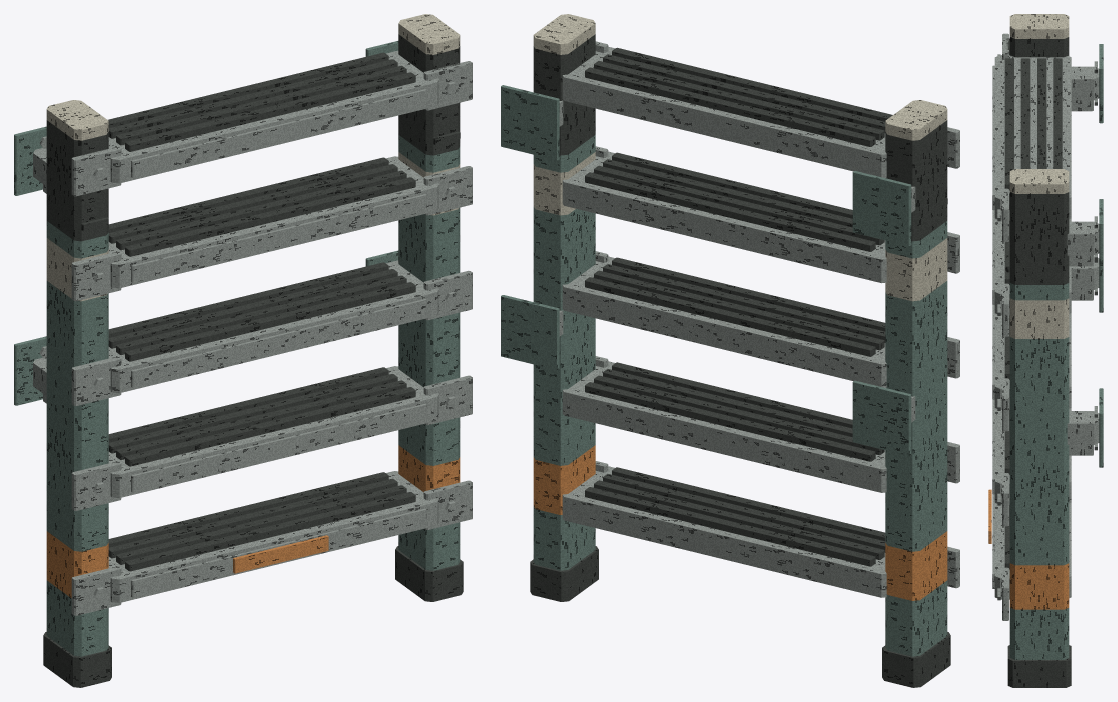
The model's file is side_door_ladder.glb.
The picture shows the model from 3 angles, left to right: view 1: azimuth 30°, elevation 25°; view 2: azimuth 150°, elevation 25°; view 3: azimuth 270°, elevation 25°; orthographic projection. The views are drawn at different scales.
Parts seen in each view (by area): view 1: side_door_ladder; view 2: side_door_ladder; view 3: side_door_ladder.
Boxes of the visible parts, x1,y1,x2,y2 form: side_door_ladder: [14, 14, 472, 687]; side_door_ladder: [501, 14, 959, 687]; side_door_ladder: [988, 14, 1103, 687].
Bounding box in the file's own units: 1 × 1.3 × 0.27.
Materials: 5 (5 with a texture image).
